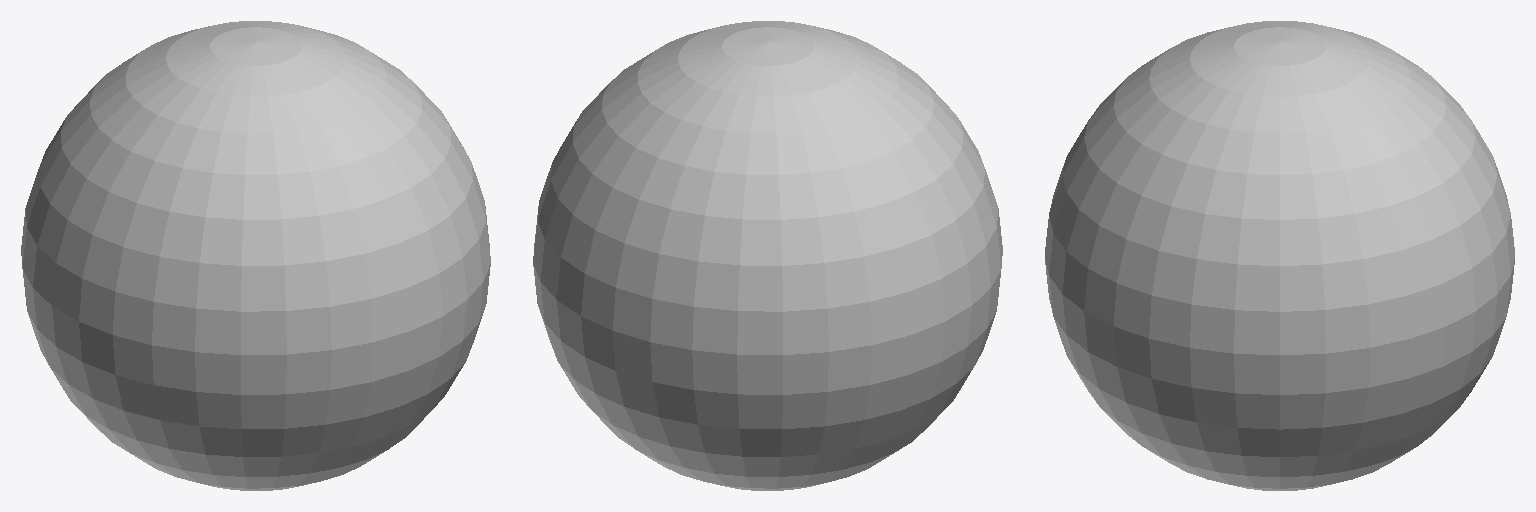
File: europa.obj
3 views of the same model, side by side, from view 1: azimuth 30°, elevation 25°; view 2: azimuth 150°, elevation 25°; view 3: azimuth 270°, elevation 25° (orthographic).
Visible parts, largest first — view 1: Sphere; view 2: Sphere; view 3: Sphere.
Boxes of the visible parts, <box> form: Sphere: <box>21,21,490,490</box>; Sphere: <box>533,21,1002,490</box>; Sphere: <box>1045,21,1514,490</box>.
Size of the model in its own units: 2 by 2 by 2.